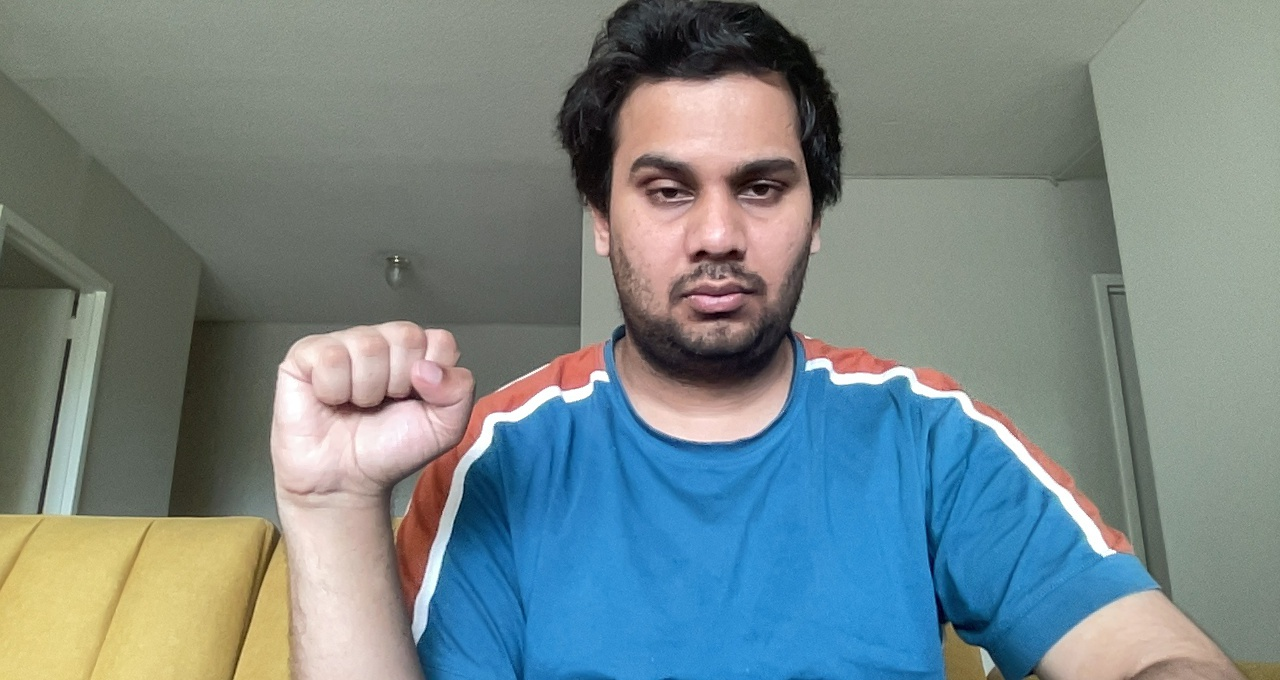closedfist: (261, 318, 486, 504)
